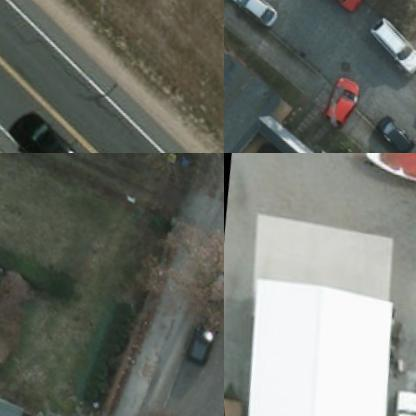boat: (359, 153, 415, 188)
car: (3, 102, 79, 152), (176, 300, 222, 364), (365, 14, 415, 68), (316, 68, 356, 123), (364, 108, 409, 148), (196, 242, 223, 306), (381, 384, 415, 415), (224, 0, 278, 18)
